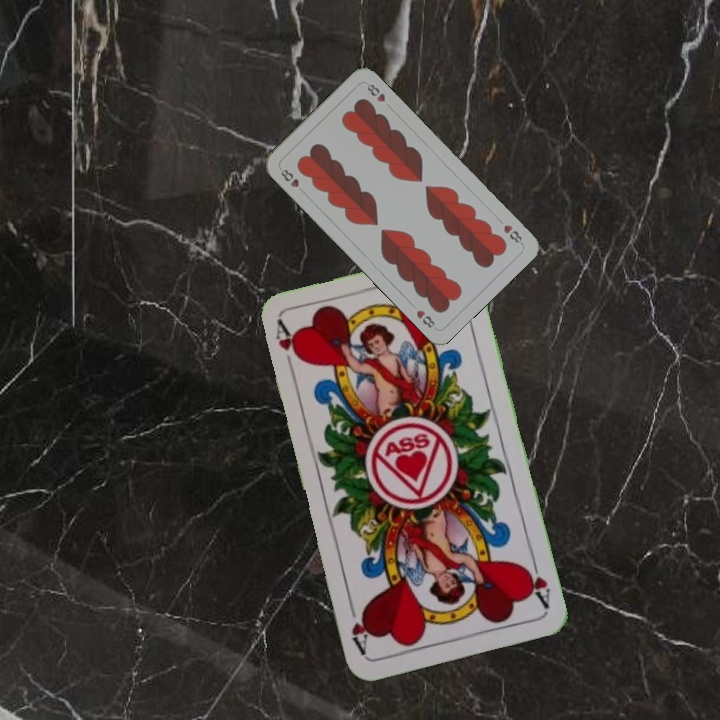H8: (277, 165, 308, 196), (500, 220, 526, 247)
HA: (520, 551, 553, 610), (271, 317, 302, 376)
